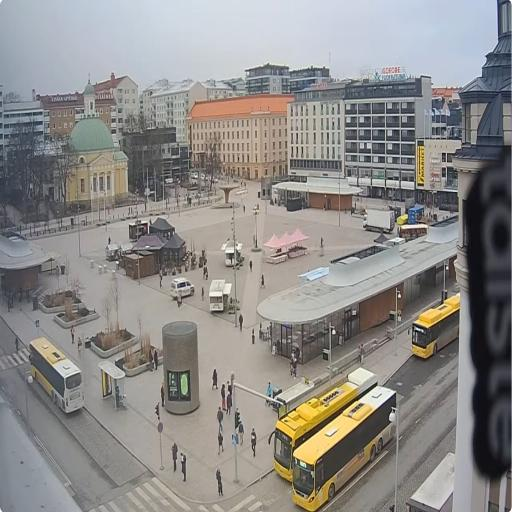bus: (290, 381, 398, 511), (266, 364, 380, 486), (27, 334, 86, 424), (404, 291, 460, 362)
car: (210, 175, 219, 185), (191, 169, 198, 181), (200, 174, 209, 183)
delivery: (362, 204, 396, 236), (170, 274, 196, 301)
